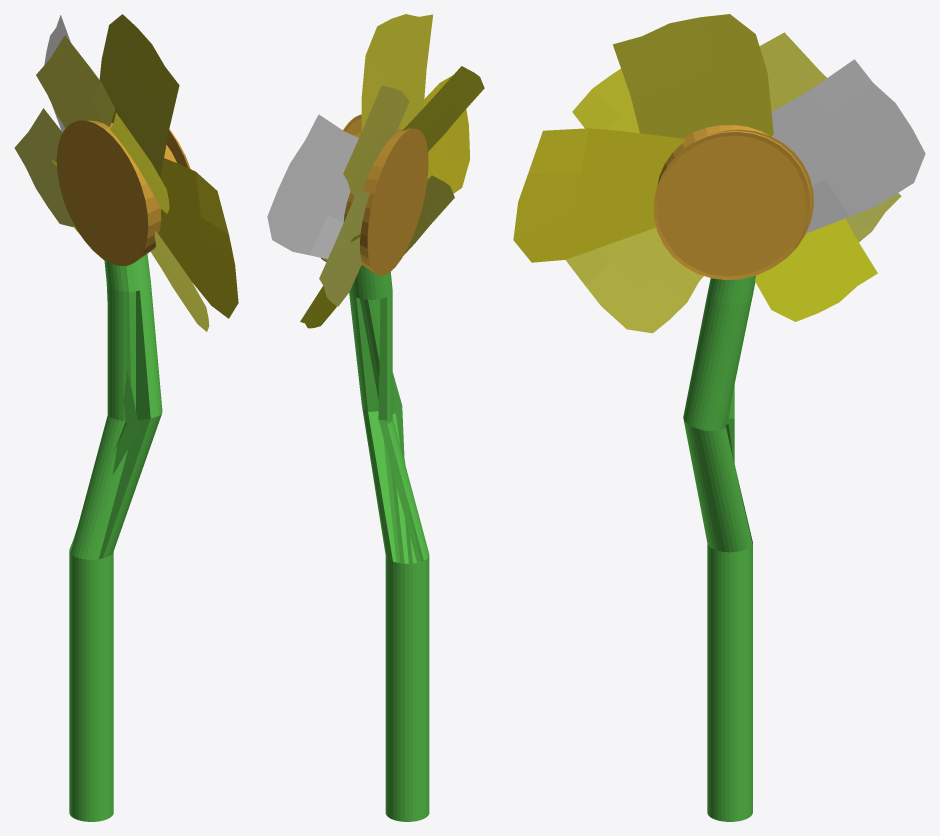
The model's file is flor.fbx.
The picture shows the model from 3 angles, left to right: view 1: azimuth 30°, elevation 25°; view 2: azimuth 150°, elevation 25°; view 3: azimuth 270°, elevation 25°; orthographic projection. The views are drawn at different scales.
Visible parts, largest first — view 1: Cylinder.007; view 2: Cylinder.007; view 3: Cylinder.007.
Boxes of the visible parts, x1,y1,x2,y2 form: Cylinder.007: (14,14,238,821); Cylinder.007: (267,14,484,821); Cylinder.007: (513,14,925,821).
Size of the model in its own units: 52.74 by 444 by 204.
